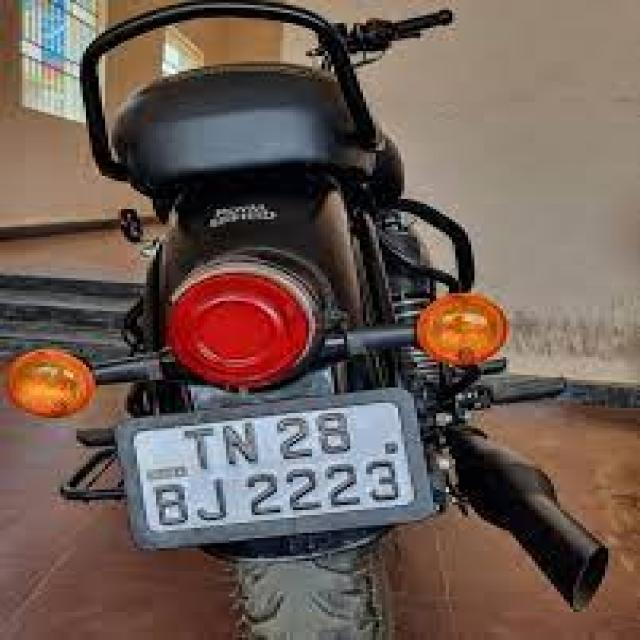number_plate: (26, 395, 493, 571)
